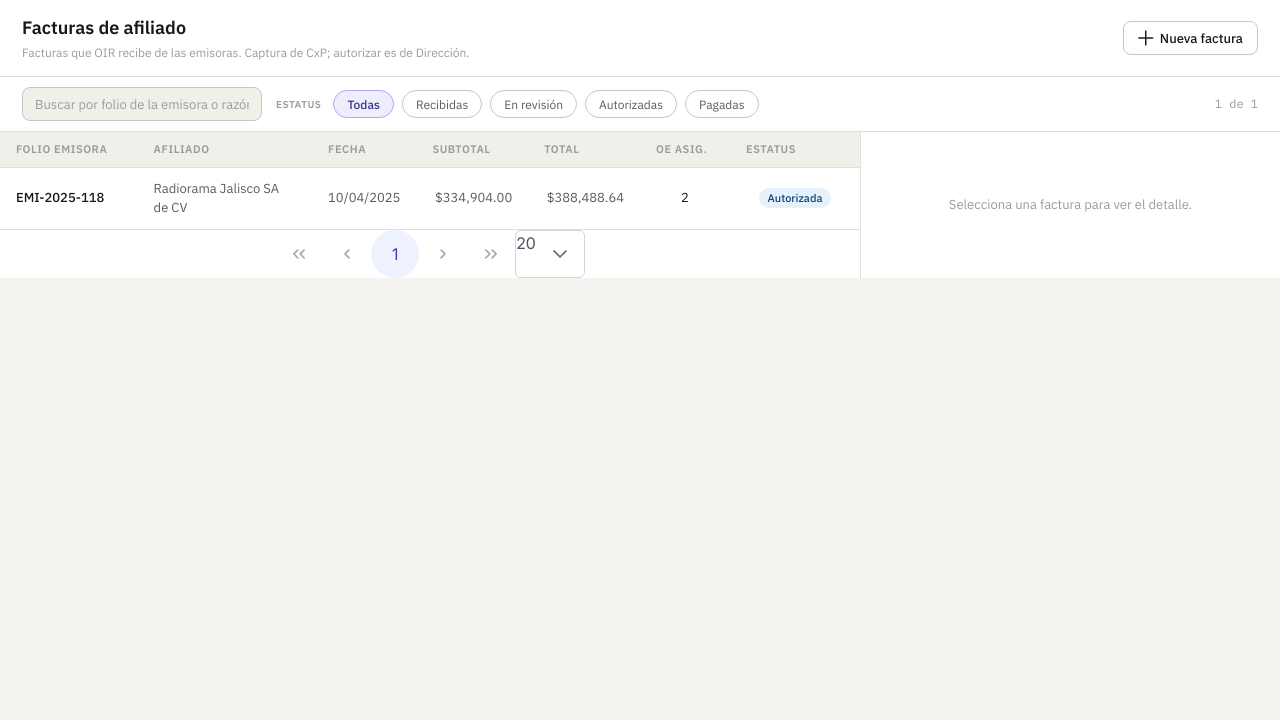
FacturasAfiliadoPage — rediseño del detalle › el timeline muestra las 4 fases reales, en orden
Click the text "EMI-2025-118".
click(69, 198)  # box [0,167,138,229]
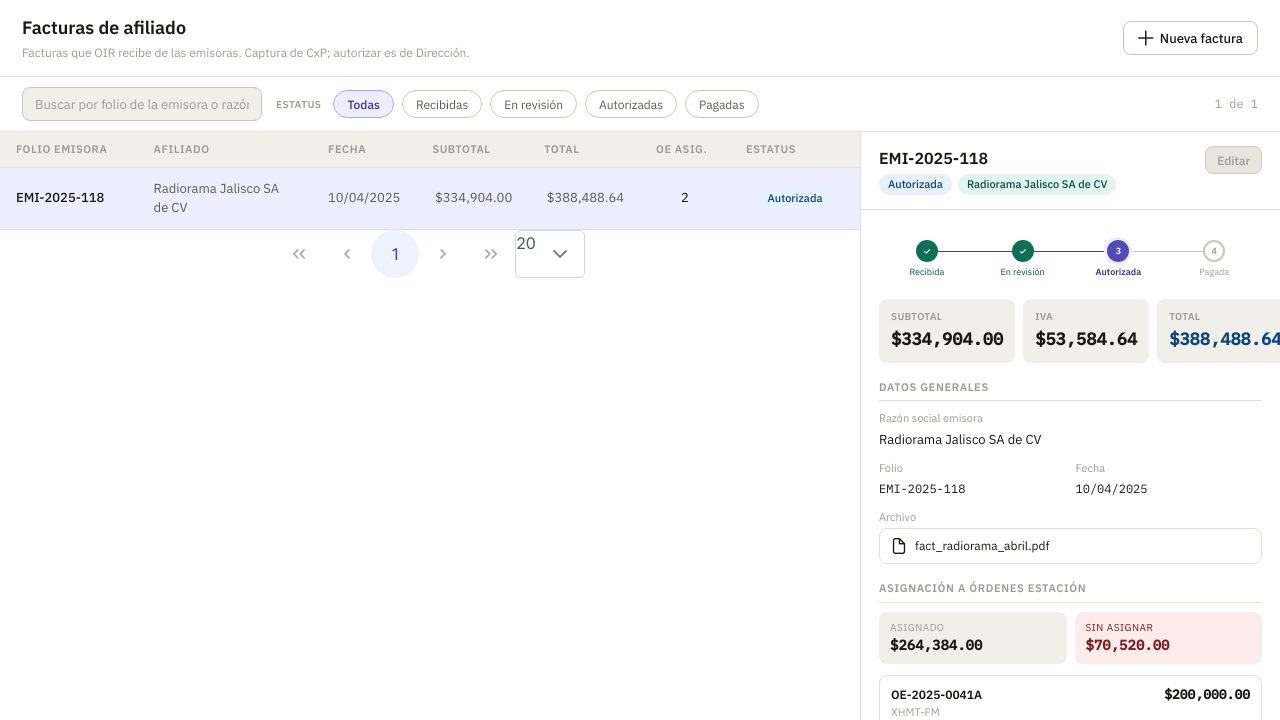
Check: the text "Datos generales" is shown, box [879,379,1262,401]
Check: the 3rd text "Autorizada" is shown, box [1096,266,1141,277]
